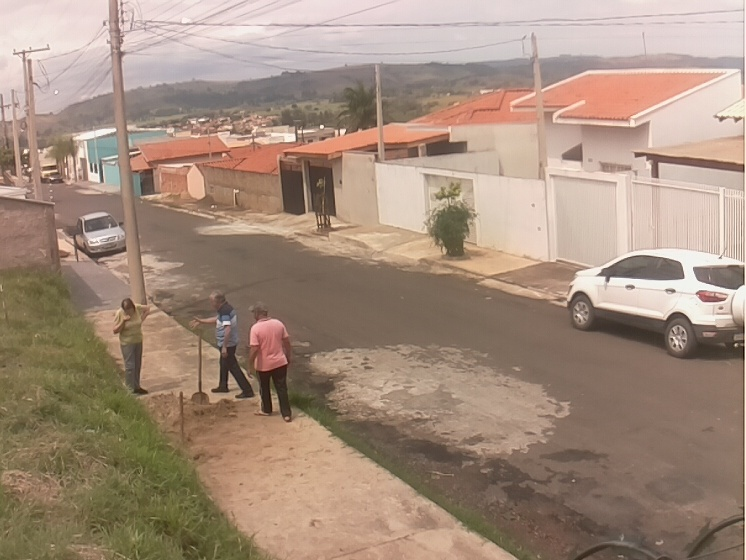person: (194, 289, 256, 399), (245, 303, 295, 423), (112, 299, 150, 395)
